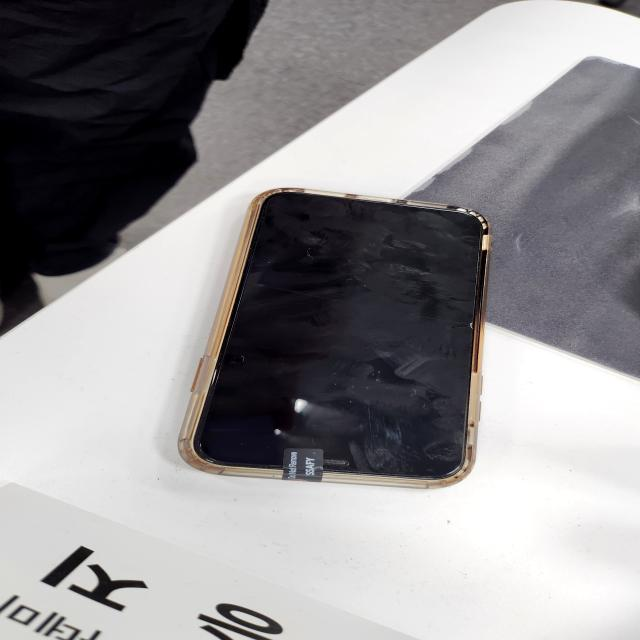phone: (176, 187, 492, 487)
sticker: (282, 447, 323, 484)
